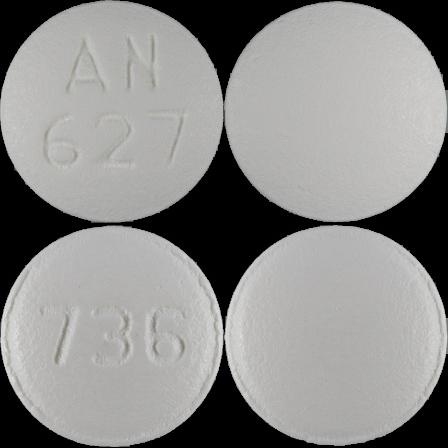33358-342: (0, 0, 224, 224)
